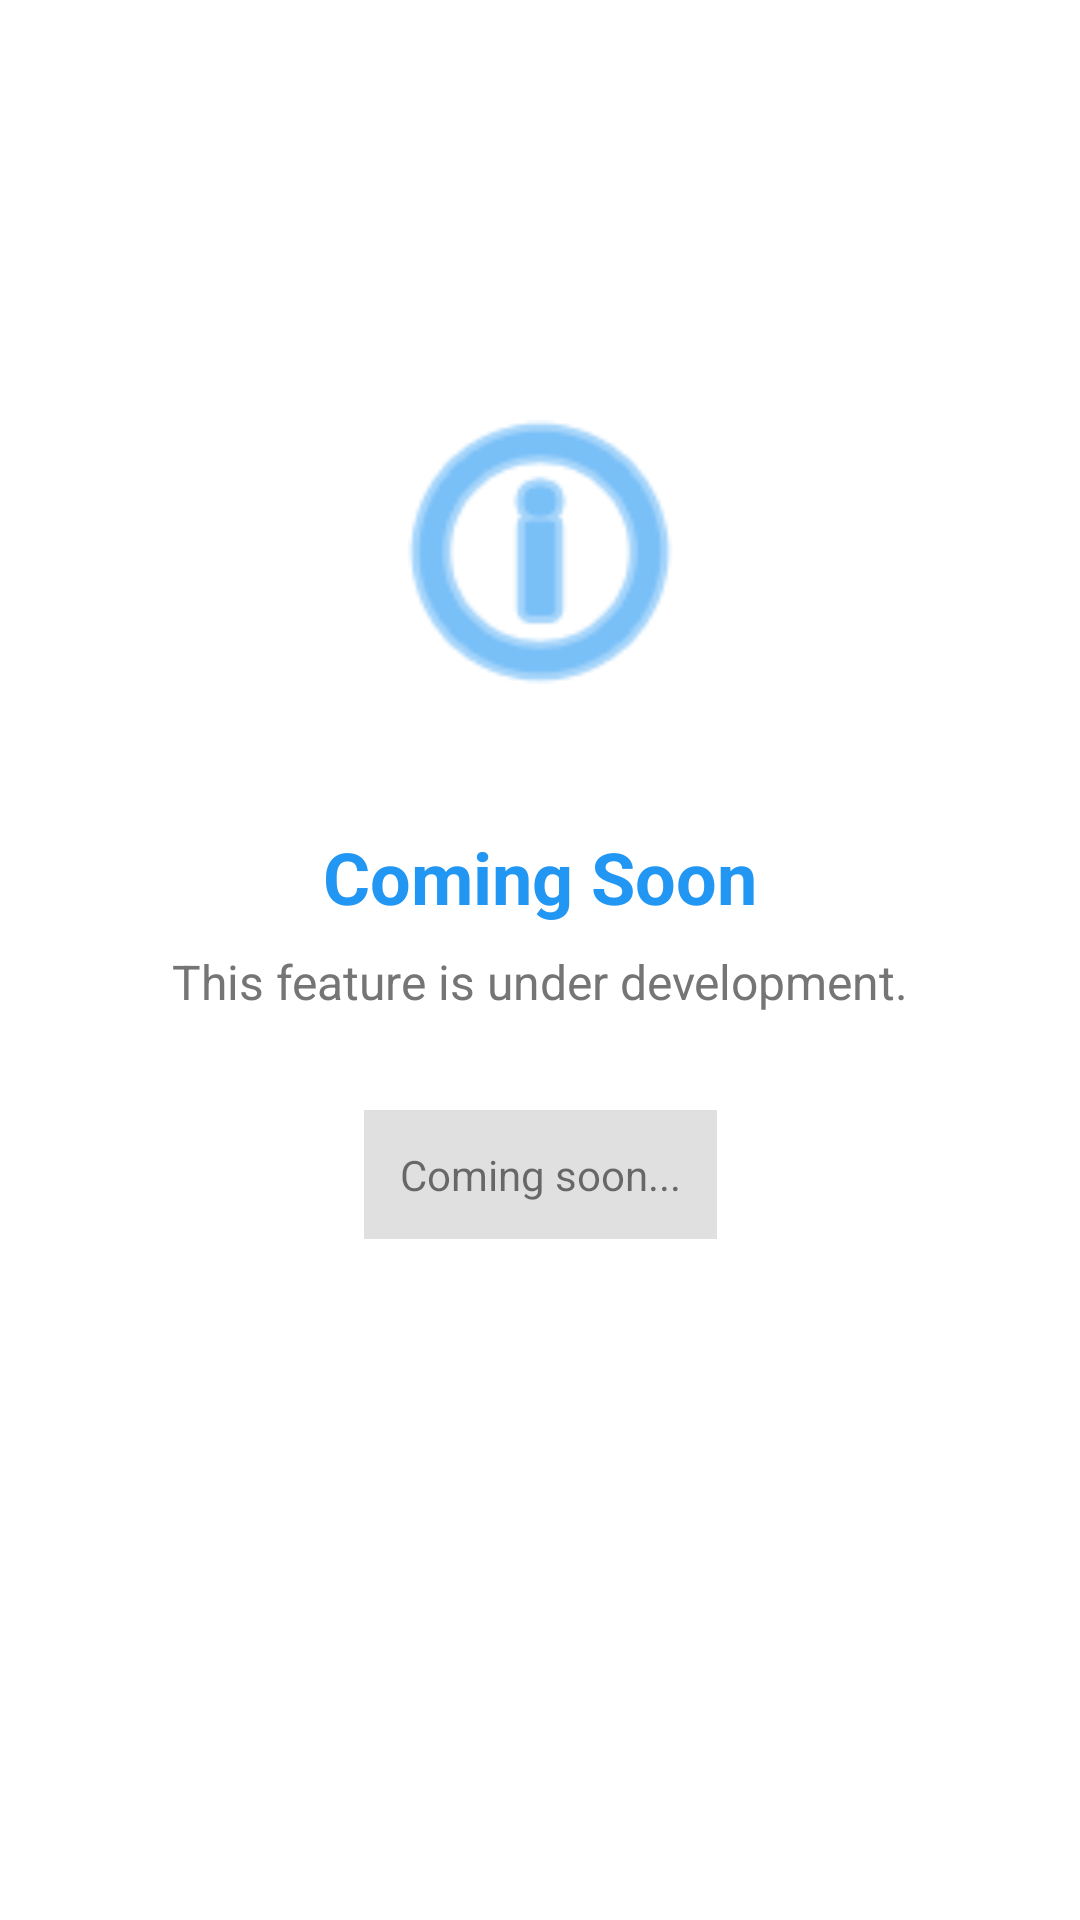

Named icons in this screenshot (1080px x 1920px) and their bounding boxes, (x1, y1, x2, y2):
info details: (410, 423, 670, 682)
